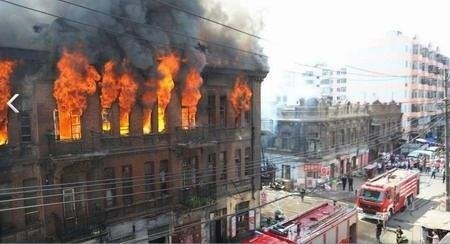fire: (49, 51, 246, 137)
